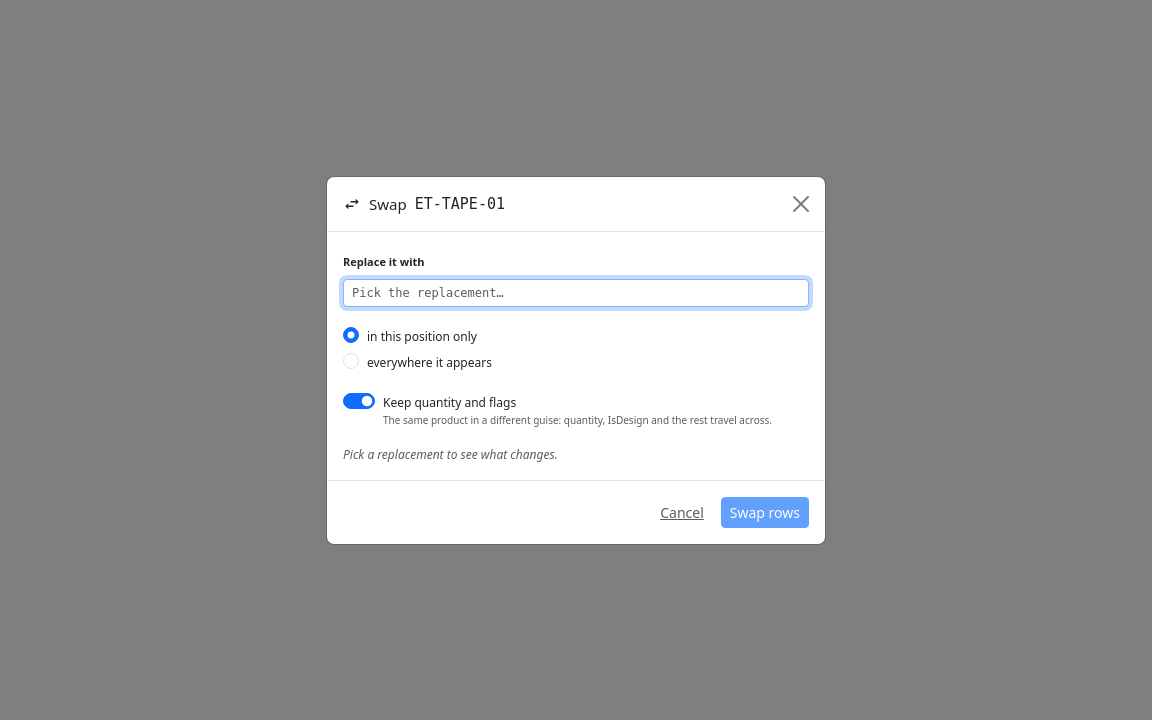
it: scoped to one position › the default is this position, and it still warns about the sharers
Step 1. Type "ET-TAPE-09" into the field with placeholder "Pick the replacement…" → (576,292), box [343,278,809,306]
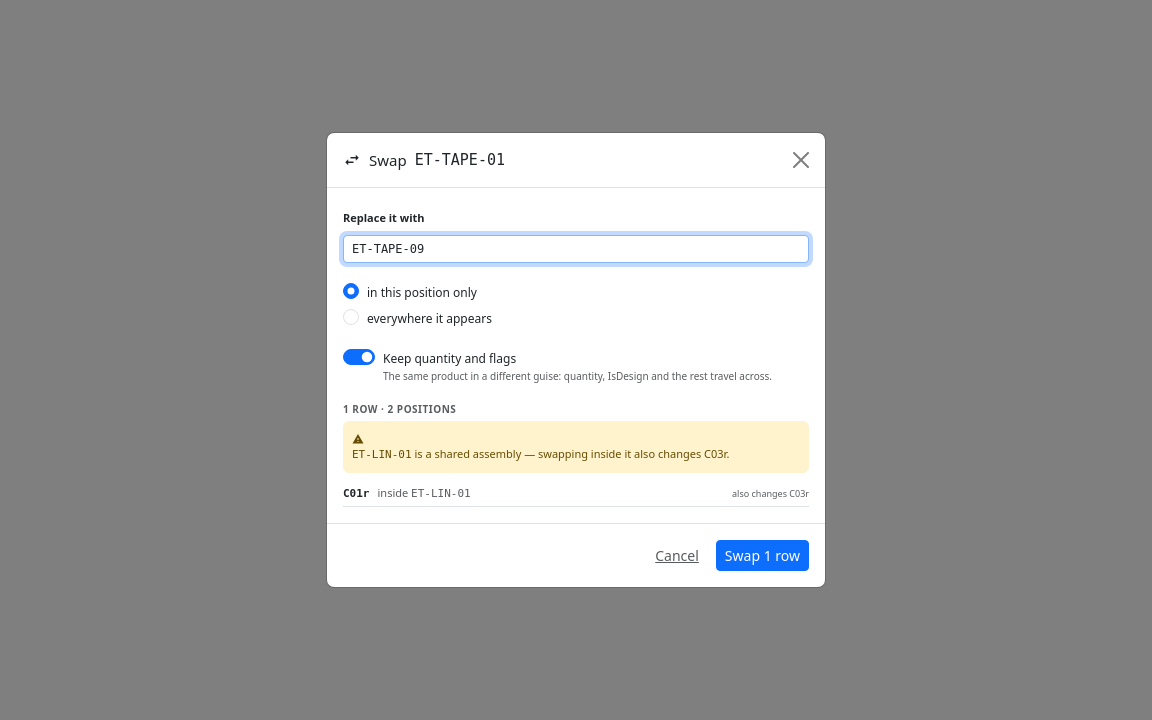
Now the text "1 row · 2 positions" is shown, box [343,402,456,416]
Now the text "also changes C03r" is shown, box [352,446,729,461]
